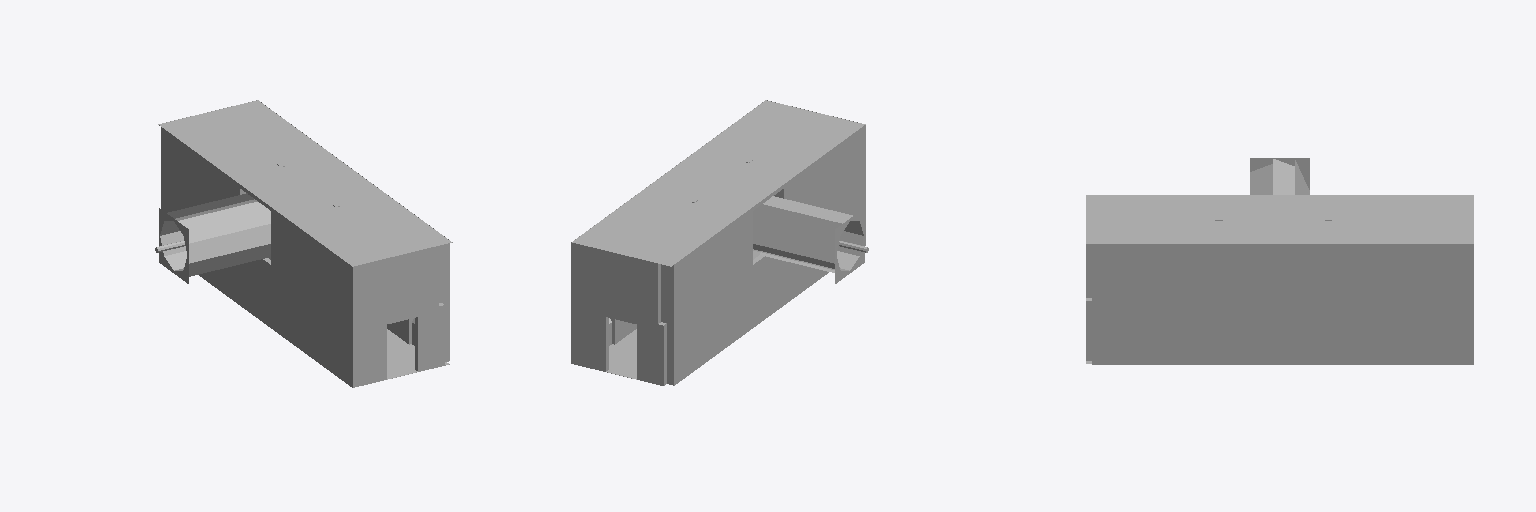
File: LC_room2_vent.obj
3 views of the same model, side by side, from view 1: azimuth 30°, elevation 25°; view 2: azimuth 150°, elevation 25°; view 3: azimuth 270°, elevation 25° (orthographic).
Parts seen in each view (by area): view 1: LC_room2_vent; view 2: LC_room2_vent; view 3: LC_room2_vent.
Part boxes in pixels (left/top/right/bottom): LC_room2_vent: left=155, top=100, right=452, bottom=387; LC_room2_vent: left=571, top=100, right=868, bottom=385; LC_room2_vent: left=1086, top=158, right=1473, bottom=364.
Size of the model in its own units: 12.08 by 7.08 by 20.48.